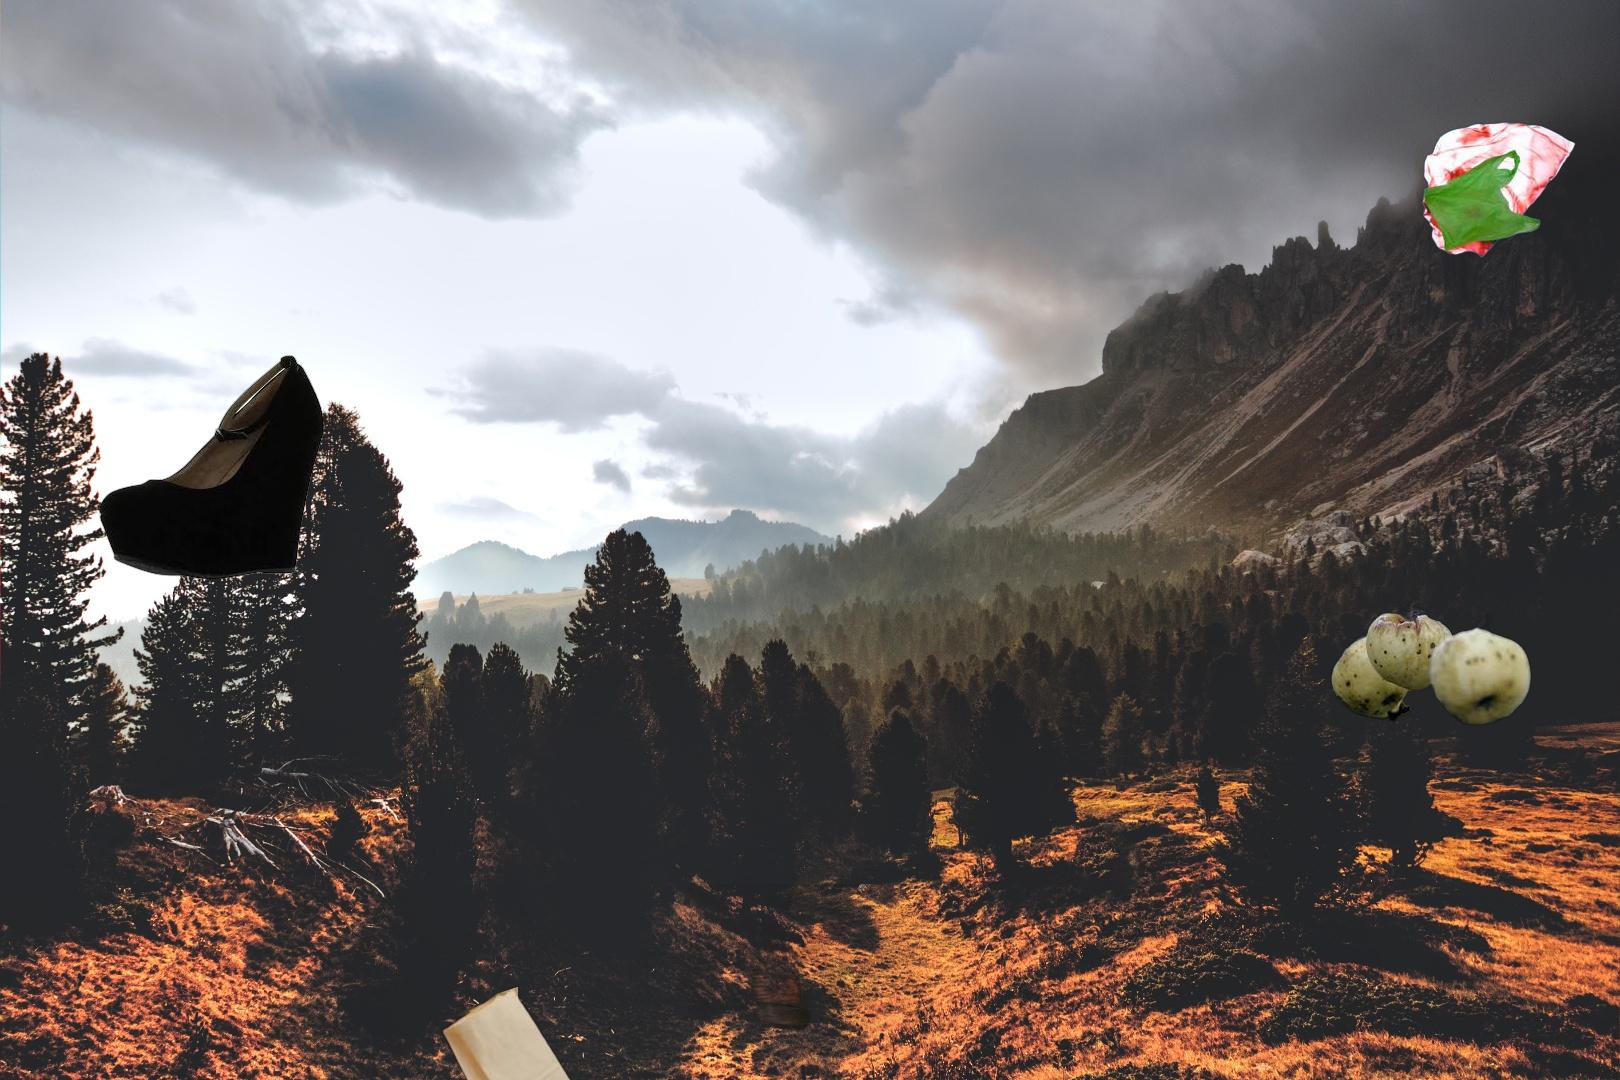biological: (1328, 589, 1532, 728)
paper-bag: (320, 984, 590, 1080)
plastic-bag: (1419, 121, 1577, 261)
shoes: (99, 355, 324, 580), (634, 884, 917, 1062)
